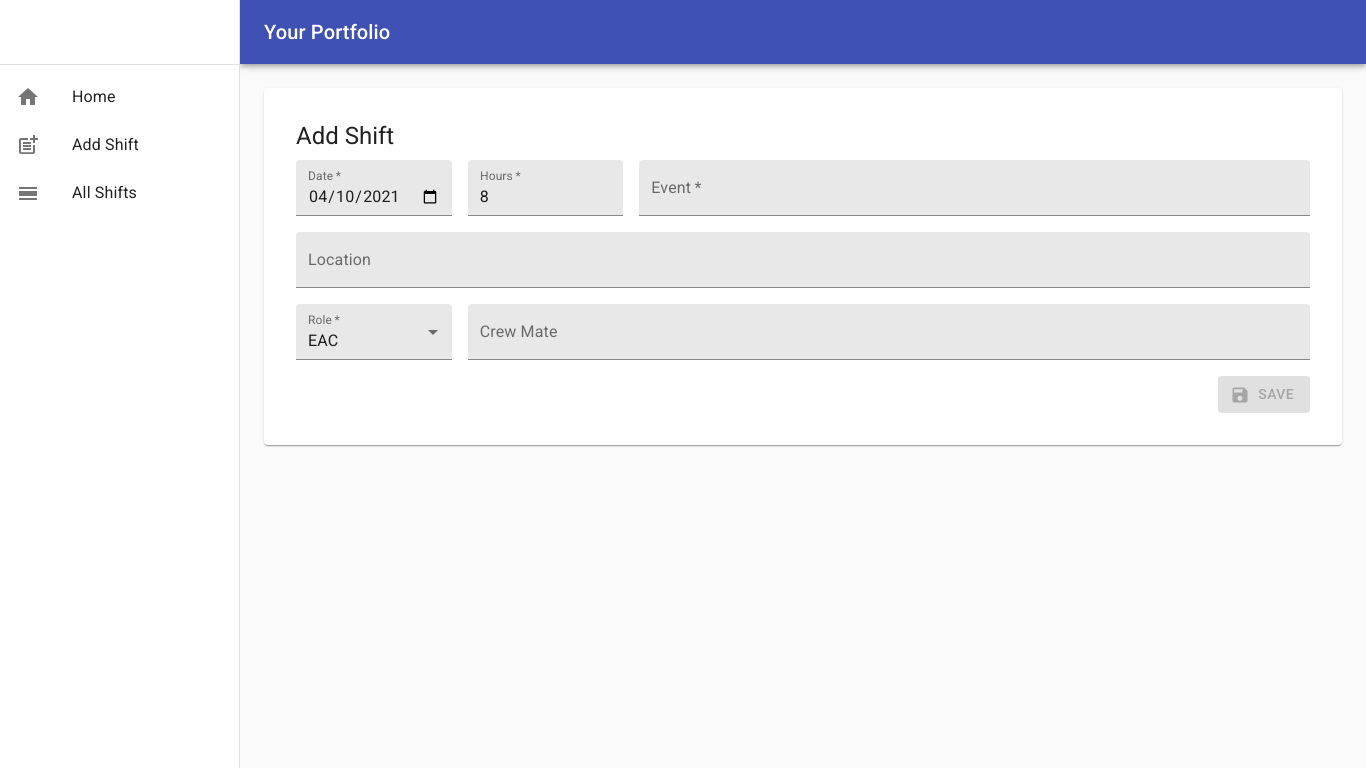
Scenario: displays an invalid date properly
Clear the date field labelled "Date". click: x=374, y=188
box: [296,160,452,216]
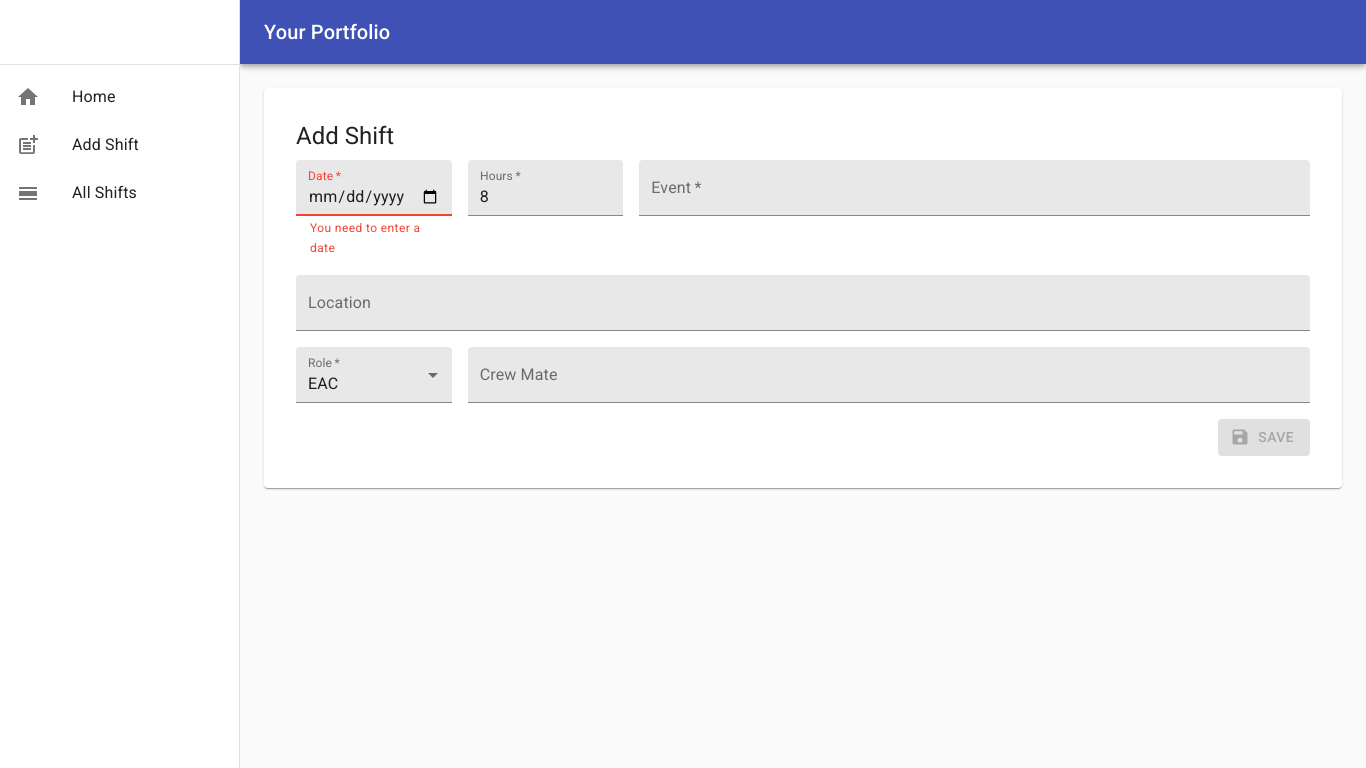
Check: the button "Save" is disabled, box [1218,419,1310,456]
Check: the text "You need to enter a date" is shown, box [310,219,438,259]
